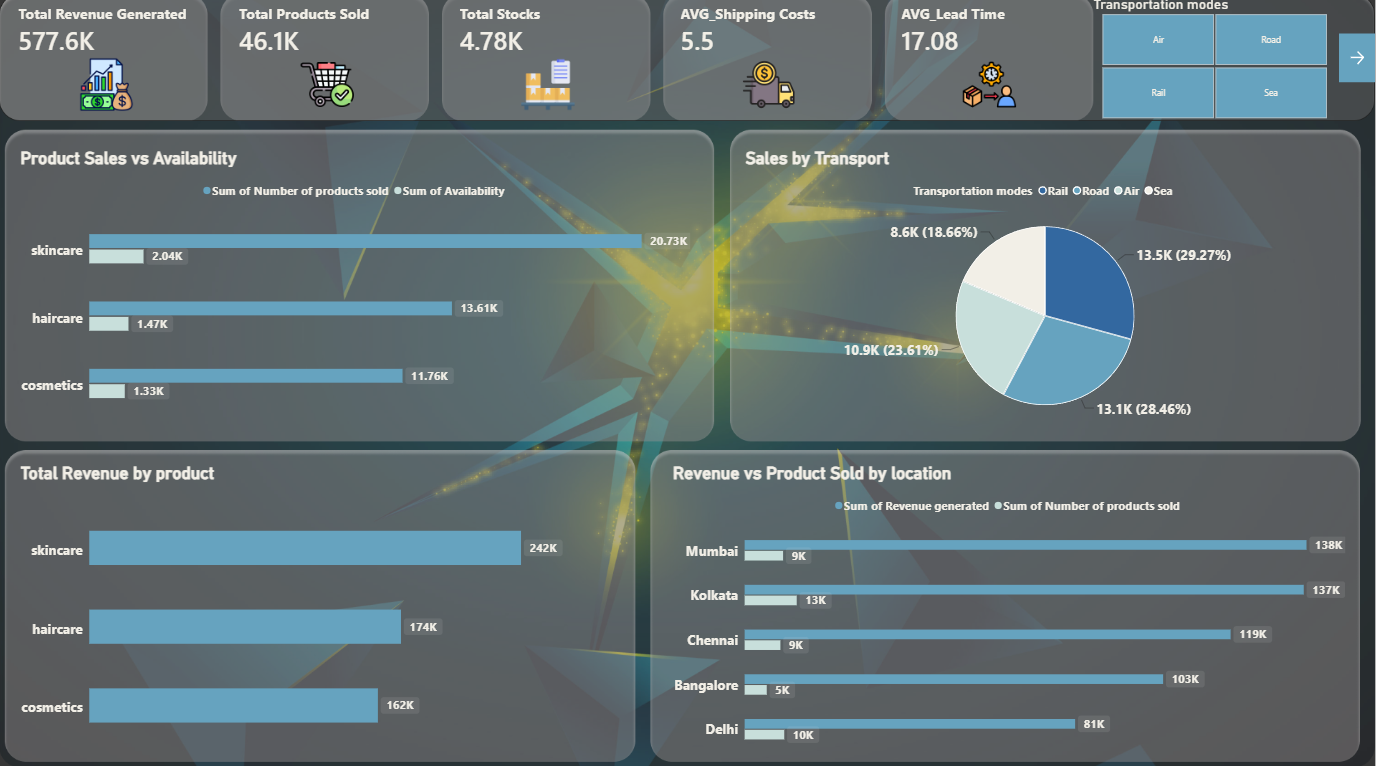

Layout of this report page (visuals, bound fields, positions):
{"tool":"powerbi","page":{"name":"Page 1","canvas":[1920,1080],"ordinal":1},"visuals":[{"type":"cardVisual","fields":{"Data":["Measuers.Total Revenue Generated","Measuers.Total Products Sold","Measuers.Total Stocks","Measuers.AVG_Shipping Costs","Measuers.AVG_Lead Time"]},"box":[2289.5,0,268.4,700],"z":0},{"type":"clusteredBarChart","title":"Product Sales vs Availability","fields":{"Category":["supply_chain_data.Product type"],"Y":["Sum(supply_chain_data.Number of products sold)","Sum(supply_chain_data.Availability)"]},"box":[13.3,196.7,966.7,423.3],"z":1000},{"type":"clusteredBarChart","title":"Revenue vs Product Sold by location","fields":{"Category":["supply_chain_data.Location"],"Y":["Sum(supply_chain_data.Revenue generated)","Sum(supply_chain_data.Number of products sold)"]},"box":[924,636,970,444],"z":2000},{"type":"pieChart","title":"Sales by Transport","fields":{"Category":["supply_chain_data.Transportation modes"],"Y":["Sum(supply_chain_data.Number of products sold)"]},"box":[1025.6,197.1,868,424],"z":3000},{"type":"clusteredBarChart","title":"Total Revenue by product","fields":{"Category":["supply_chain_data.Product type"],"Y":["Sum(supply_chain_data.Revenue generated)"]},"box":[14,636,876,444],"z":4000},{"type":"cardVisual","fields":{"Data":["Measuers.Total Revenue Generated","Measuers.Total Products Sold","Measuers.Total Stocks","Measuers.AVG_Shipping Costs","Measuers.AVG_Lead Time"]},"box":[0,0,1536,172],"z":5000},{"type":"slicer","fields":{"Values":["supply_chain_data.Transportation modes"]},"box":[1519.2,0,352.3,172.7],"z":6000},{"type":"actionButton","box":[1869.8,52.3,50.6,68],"z":7000}]}

Visuals, with their boxes in screenshot pixels (x1, y1, x2, y2), scaled from the page's 1920x1080 canvas onto the 1376x766 screenshot:
"Product Sales vs Availability" clusteredBarChart: [10, 140, 702, 440]
"Revenue vs Product Sold by location" clusteredBarChart: [662, 451, 1357, 765]
"Sales by Transport" pieChart: [735, 140, 1357, 441]
"Total Revenue by product" clusteredBarChart: [10, 451, 638, 765]
cardVisual - Measuers.Total Revenue Generated x Measuers.Total Products Sold: [0, 0, 1101, 122]
slicer - supply_chain_data.Transportation modes: [1089, 0, 1341, 122]
actionButton: [1340, 37, 1375, 85]
